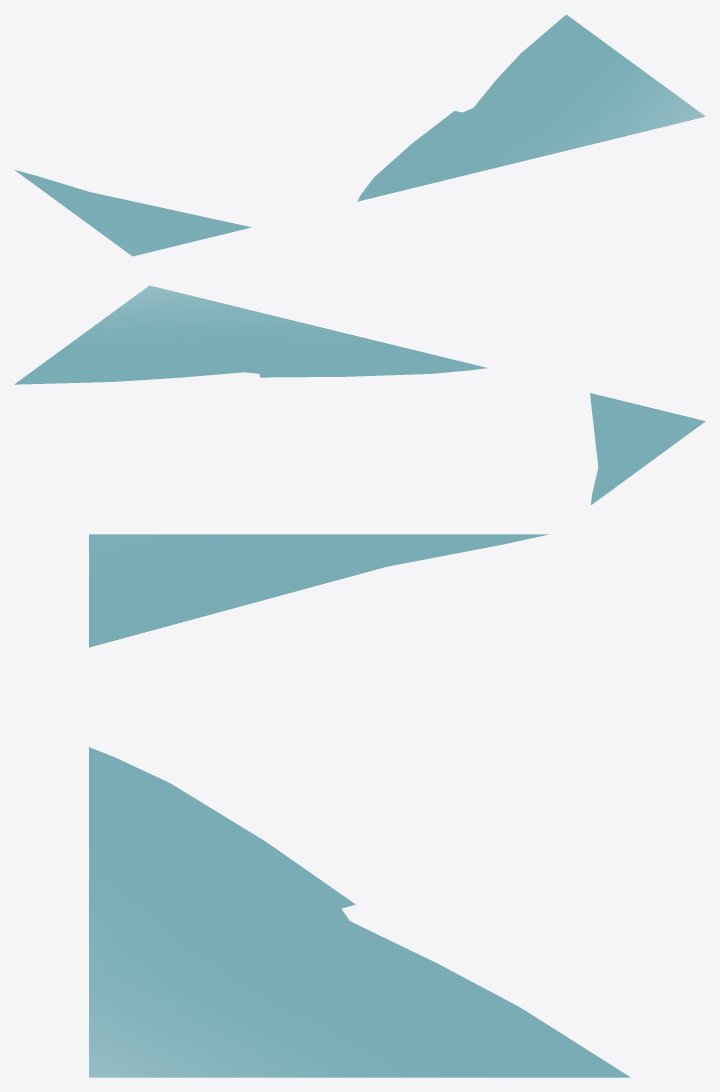
3 renders of one model, top to bottom at view 1: azimuth 30°, elevation 25°; view 2: azimuth 150°, elevation 25°; view 3: azimuth 270°, elevation 25°, orthographic. The views are drawn at different scales.
Parts seen in each view (by area): view 1: city; view 2: city; view 3: city.
Boxes of the visible parts, box(x1,y1,x2,y2) form: city: box(15, 14, 705, 256); city: box(14, 285, 705, 504); city: box(89, 534, 630, 1077).
Size of the model in its own units: 500 by 0 by 211.
